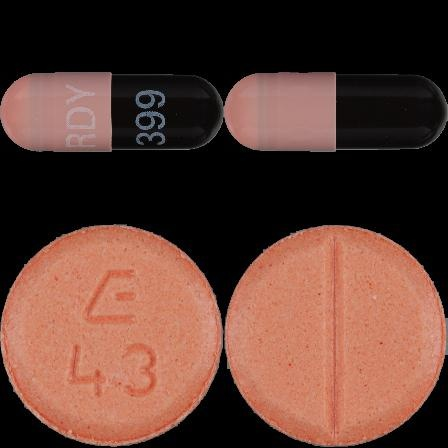63739-555: (0, 0, 224, 224)
